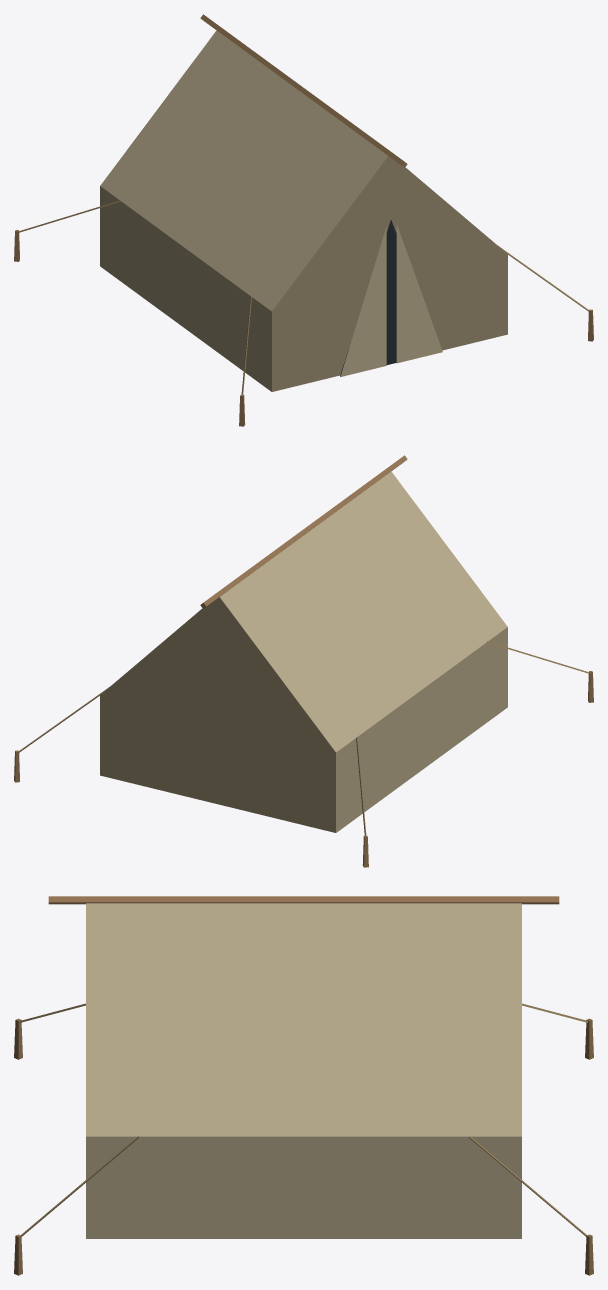
File: tent.glb
The picture shows the model from 3 angles, top to bottom: view 1: azimuth 30°, elevation 25°; view 2: azimuth 150°, elevation 25°; view 3: azimuth 270°, elevation 25°; orthographic projection. The views are drawn at different scales.
Visible parts, largest first — view 1: tent; view 2: tent; view 3: tent.
Part boxes in pixels (x1,y1,x2,y2): tent: (14,14,593,426); tent: (14,455,593,867); tent: (14,896,593,1275).
Size of the model in its own units: 3.46 by 1.98 by 3.86.
